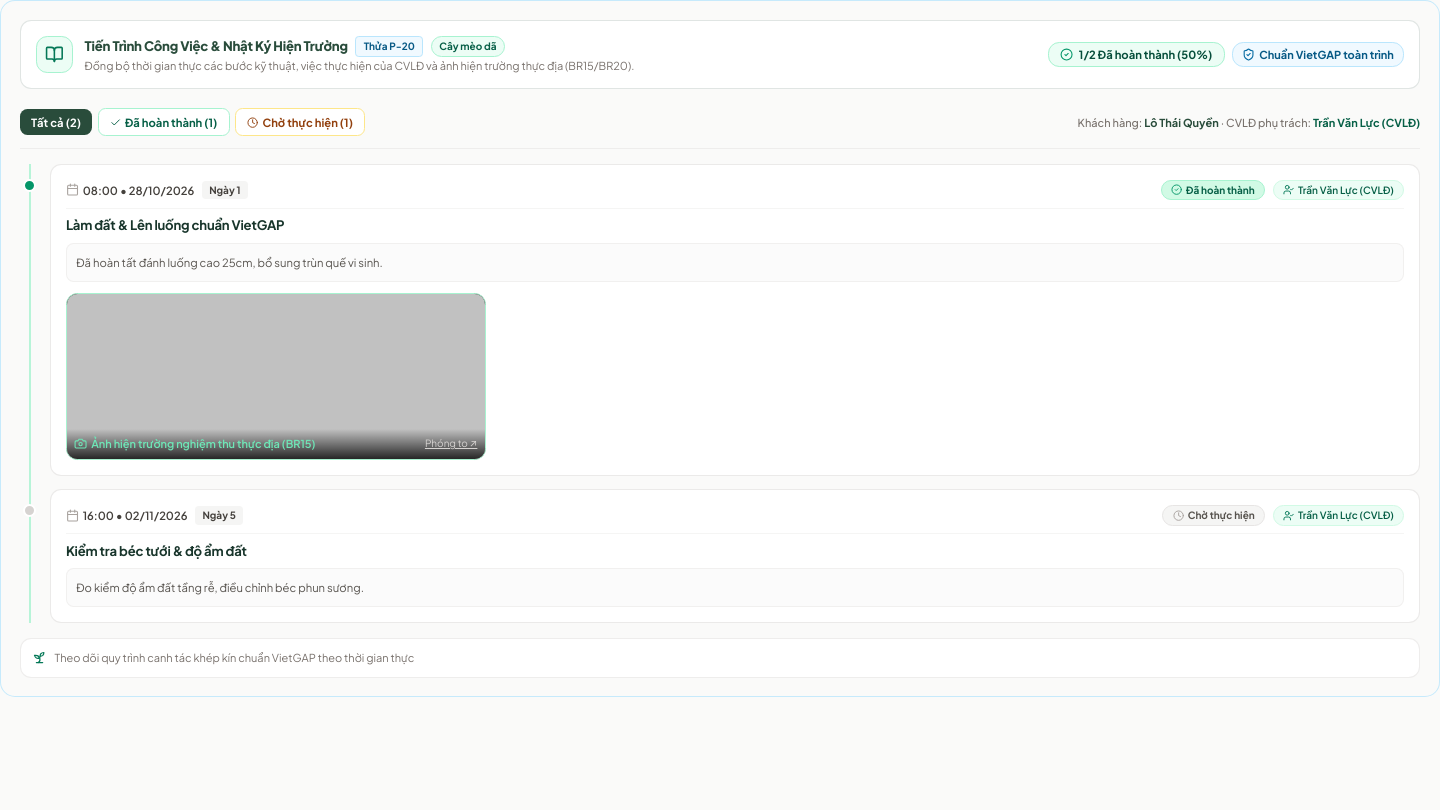
Test: PlotWorkProgressTimeline Component › filters tasks by status when filter buttons are clicked
What coordinates should you click on to do the following:
click the button "Đã hoàn thành (1)"
I would click on:
 (164, 122)
Its box is [98, 108, 230, 136].
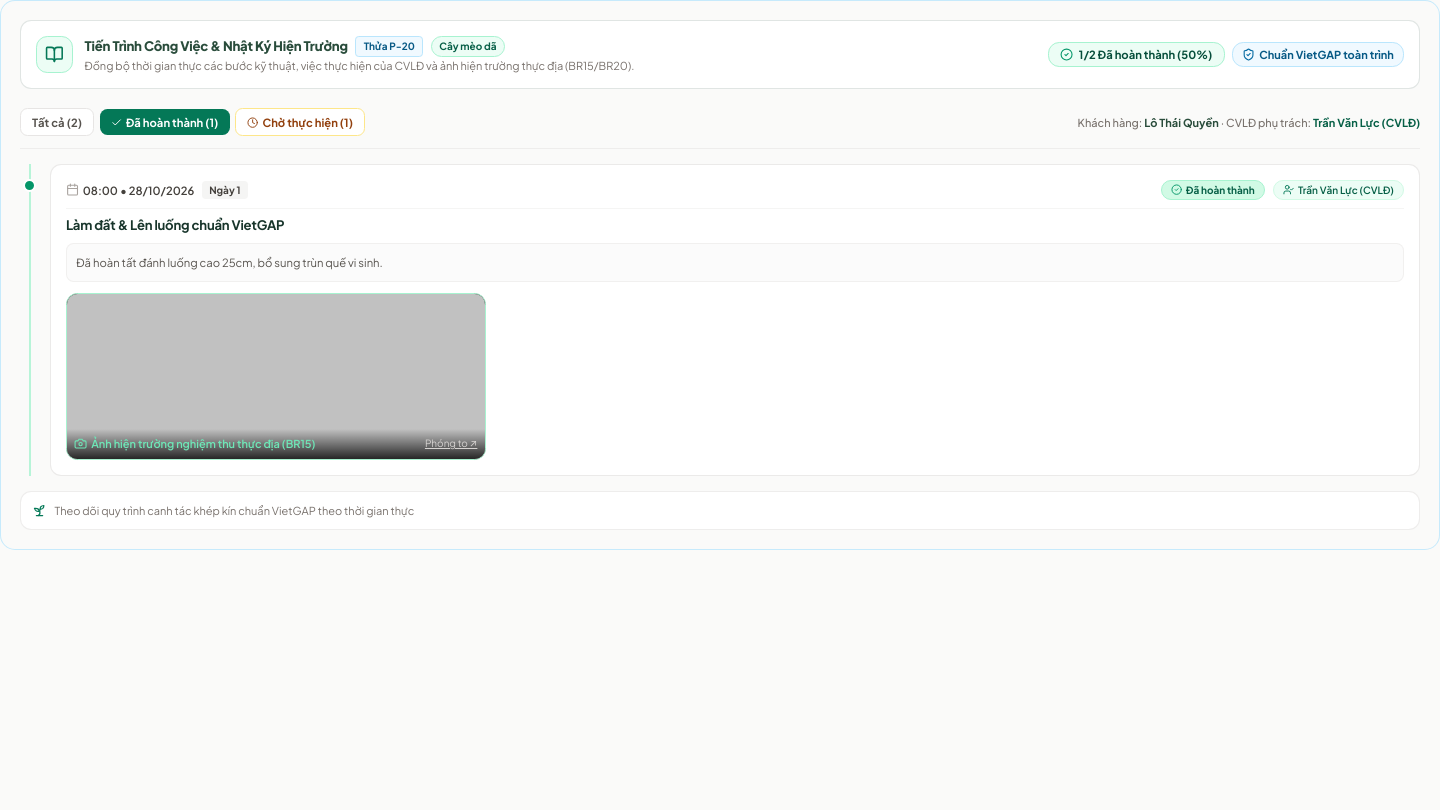
Expected: the text "Làm đất & Lên luống chuẩn VietGAP" is shown, [66, 216, 284, 233]
Now the text "Kiểm tra béc tưới & độ ẩm đất" is gone
What coordinates should you click on to do the following:
click the button "Chờ thực hiện (1)"
I would click on:
 (300, 122)
Its box is [235, 108, 365, 136].
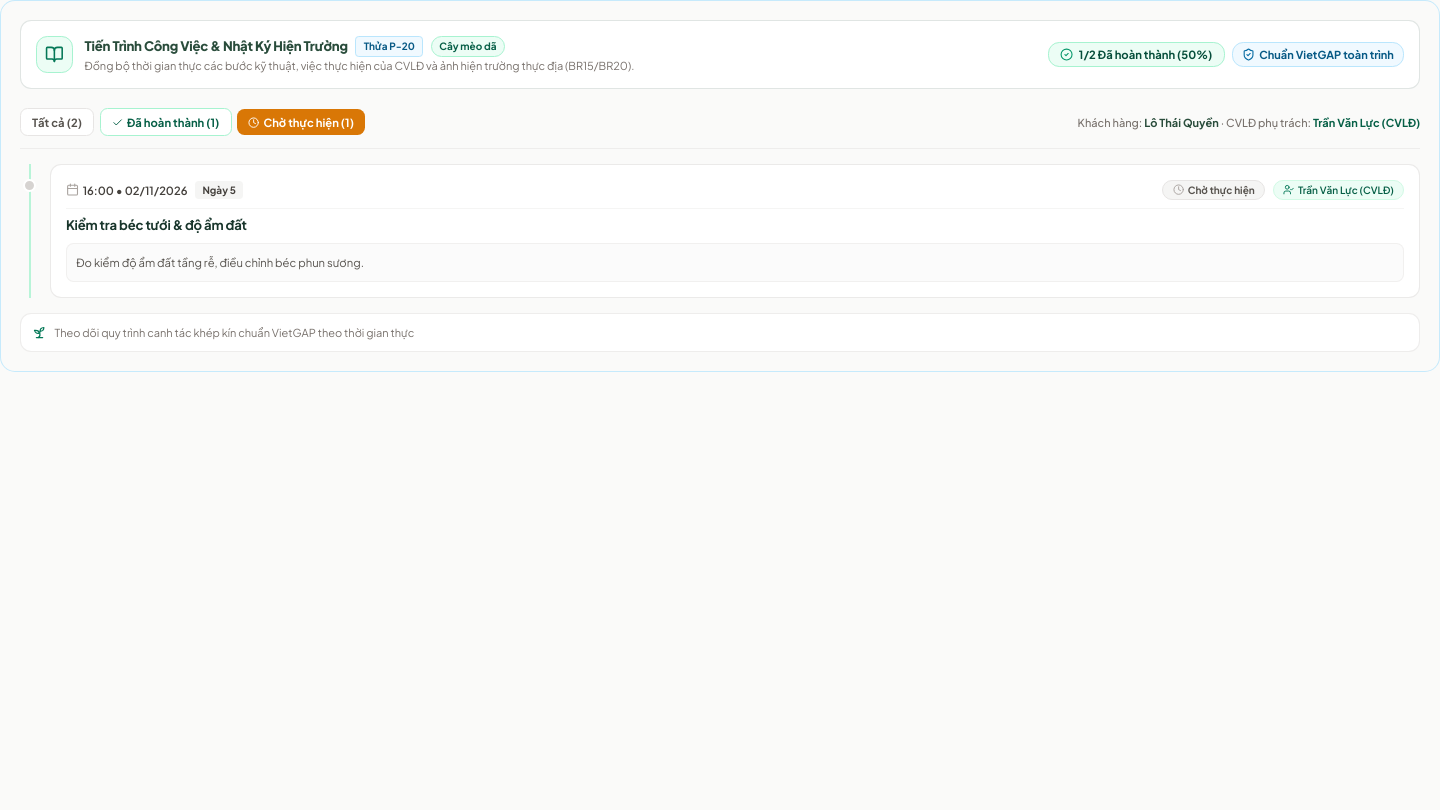
Now the text "Làm đất & Lên luống chuẩn VietGAP" is gone
Now the text "Kiểm tra béc tưới & độ ẩm đất" is shown, box [66, 216, 247, 233]
